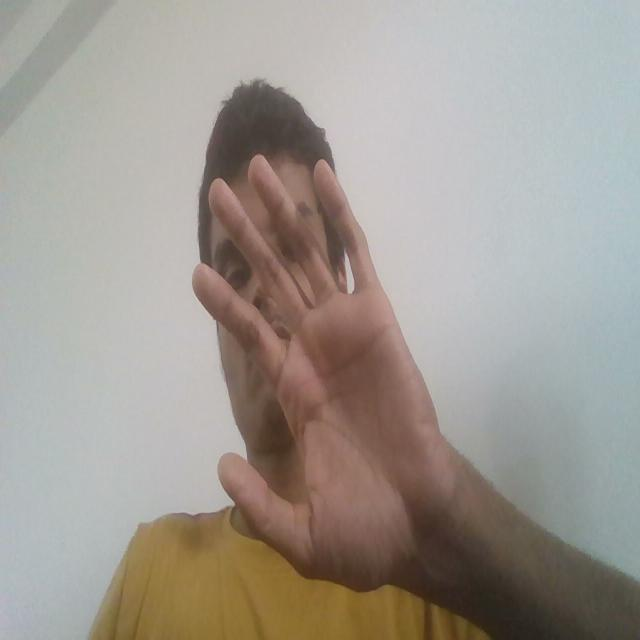Hello: (178, 133, 466, 632)
